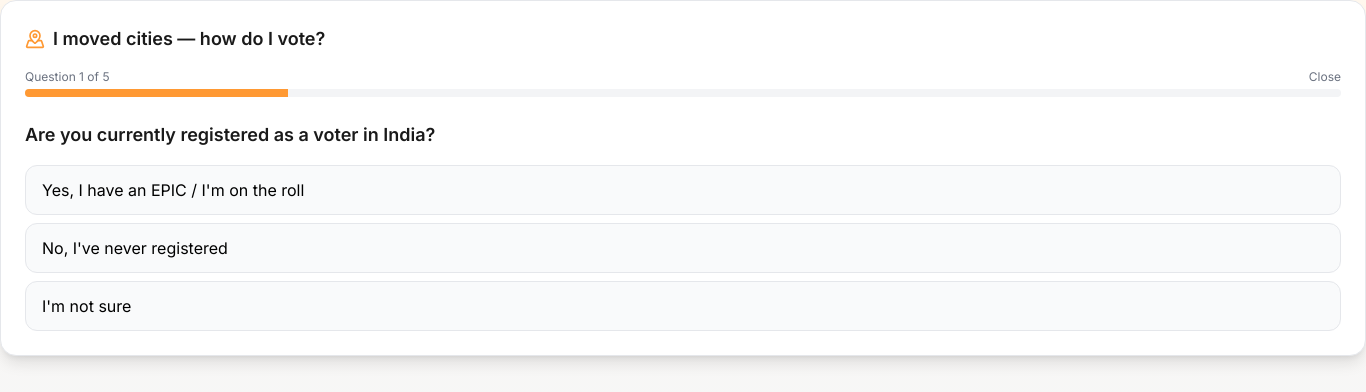
Test case: MigrationHelper › routes never-registered users to Form 6
Click the button "No, I've never registered": click(135, 248) [25, 223, 1341, 273]
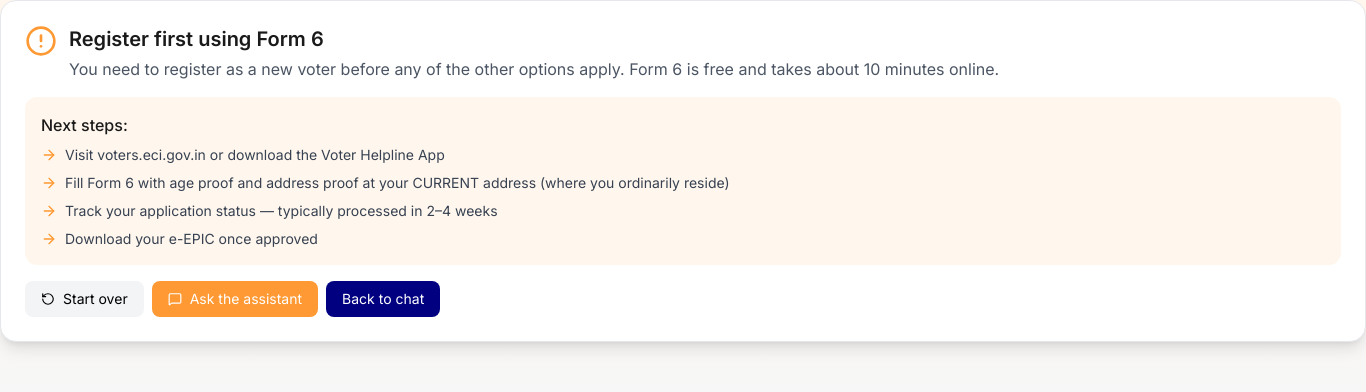
Expected: the heading "Register first using Form 6" is shown, [69, 27, 324, 51]
